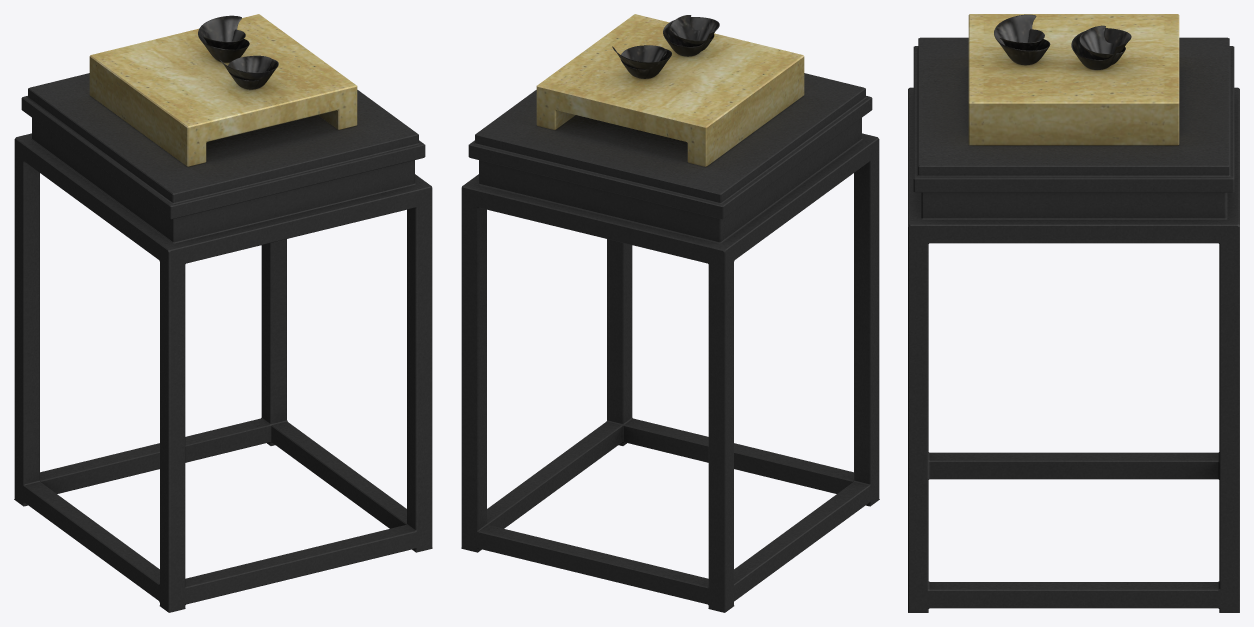
Rendered from raw_model.obj.
3 renders of one model, left to right at view 1: azimuth 30°, elevation 25°; view 2: azimuth 150°, elevation 25°; view 3: azimuth 270°, elevation 25°, orthographic. The views are drawn at different scales.
Visible parts, largest first — view 1: solid_002, solid_001, solid_003; view 2: solid_002, solid_001, solid_003; view 3: solid_002, solid_001, solid_003.
Boxes of the visible parts, bbox=[...] form: solid_002: bbox=[14, 73, 432, 612]; solid_001: bbox=[89, 14, 357, 166]; solid_003: bbox=[198, 15, 278, 89]; solid_002: bbox=[461, 73, 879, 612]; solid_001: bbox=[536, 14, 804, 166]; solid_003: bbox=[612, 15, 719, 78]; solid_002: bbox=[908, 37, 1239, 612]; solid_001: bbox=[968, 14, 1179, 145]; solid_003: bbox=[994, 14, 1131, 69].
Size of the model in its own units: 0.3894 by 0.6817 by 0.3963.
1 material, 1 textured.
